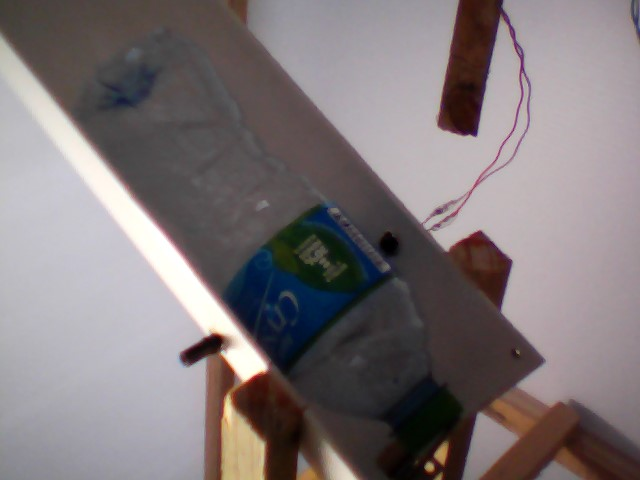plastico: (51, 25, 472, 457)
